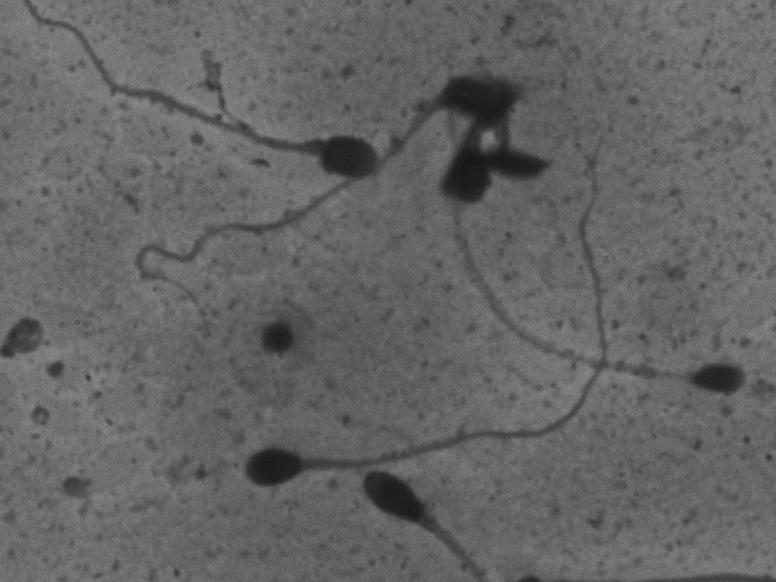Abnormal: (423, 193, 752, 415), (19, 2, 384, 188), (334, 464, 480, 578)
Normal: (231, 129, 616, 502)
